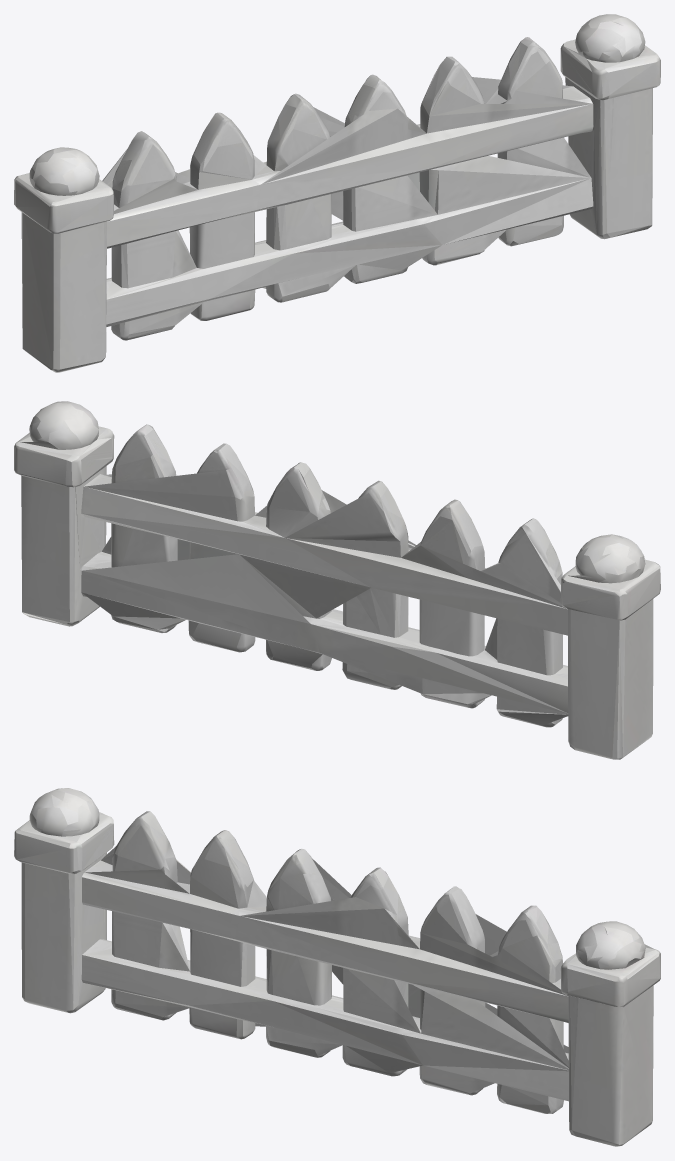
Rendered from skate-hegn.glb.
3 views of the same model, one above another, from view 1: azimuth 30°, elevation 25°; view 2: azimuth 150°, elevation 25°; view 3: azimuth 330°, elevation 25° (orthographic).
Bounding box in the file's own units: 1.9 × 0.6119 × 0.2252.
Materials: 1 (1 with a texture image).
